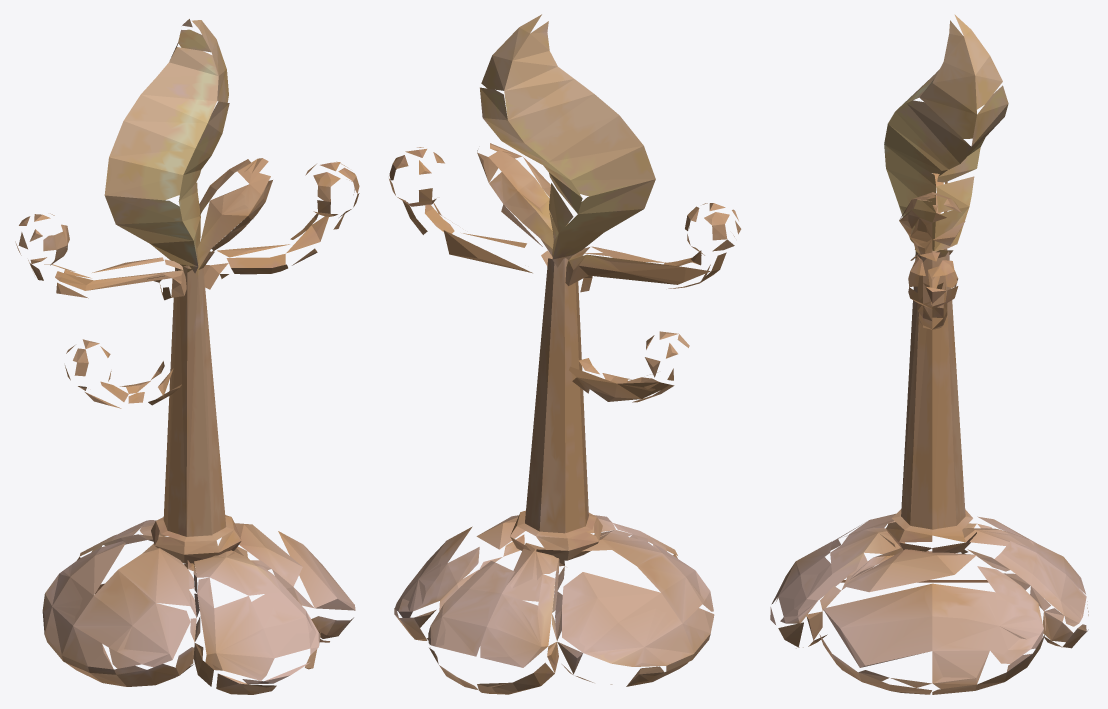
Rendered from g_f_hanger.glb.
The picture shows the model from 3 angles, left to right: view 1: azimuth 30°, elevation 25°; view 2: azimuth 150°, elevation 25°; view 3: azimuth 270°, elevation 25°; orthographic projection. The views are drawn at different scales.
Visible parts, largest first — view 1: geometry_0; view 2: geometry_0; view 3: geometry_0.
Boxes of the visible parts, x1,y1,x2,y2 form: geometry_0: (15, 19, 359, 694); geometry_0: (389, 14, 741, 694); geometry_0: (770, 14, 1088, 694).
Bounding box in the file's own units: 0.1031 × 0.1804 × 0.0849.
